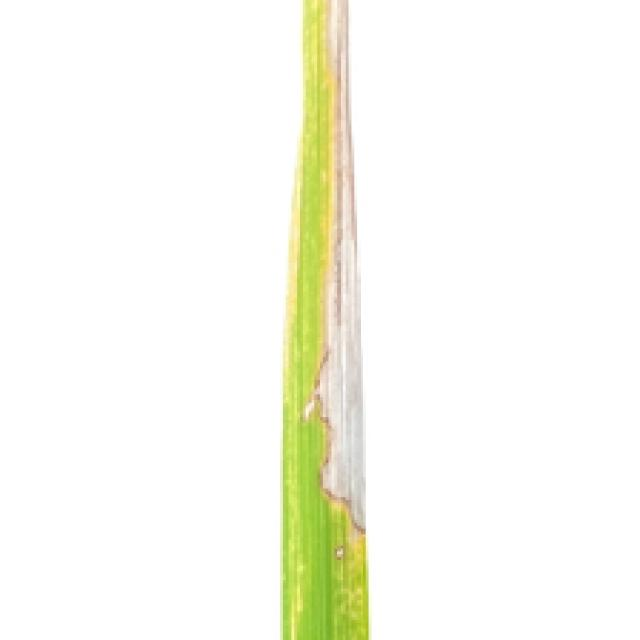Rice___Bacterial_Leaf_Blight: (280, 0, 370, 637)
